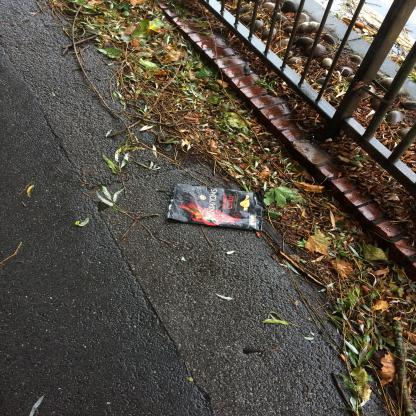plastik: (167, 184, 265, 234)
